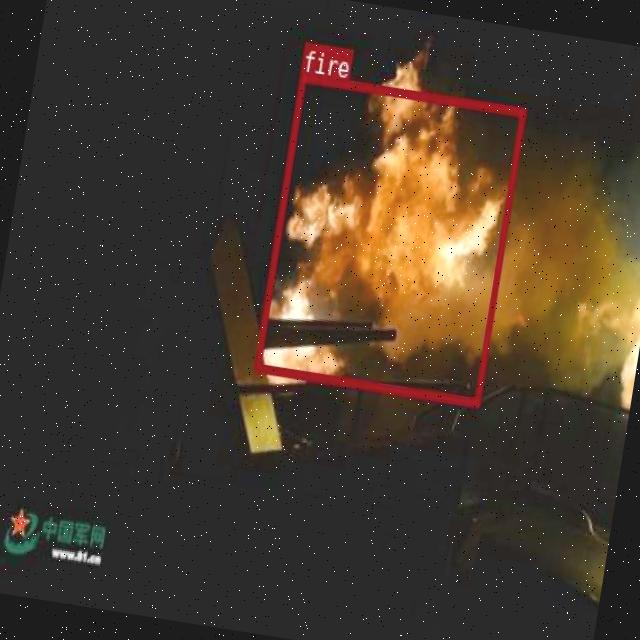fire: (253, 72, 525, 405)
